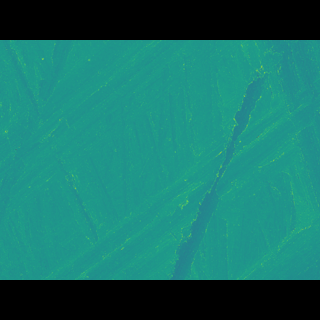Loch: (31, 100, 319, 249), (0, 70, 245, 204), (166, 90, 275, 250), (234, 201, 319, 251)
